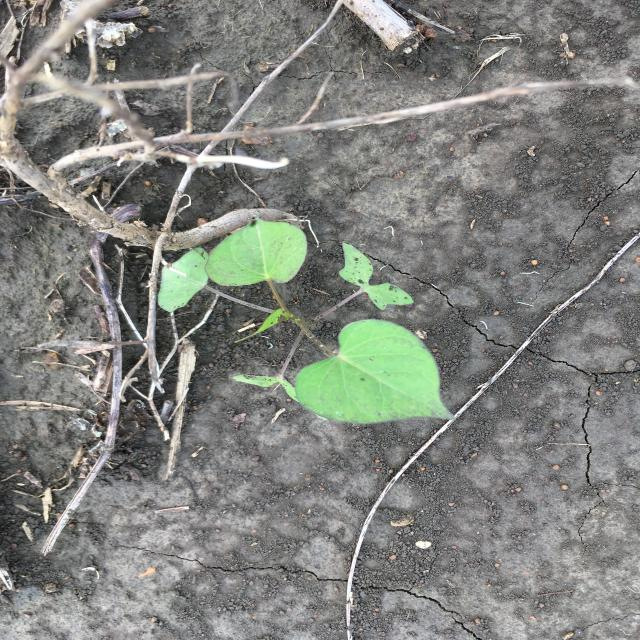MorningGlory: (155, 215, 459, 428)
